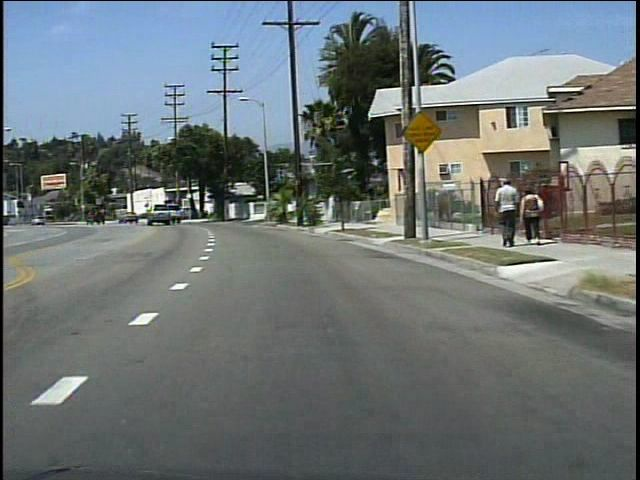person: (490, 175, 517, 249), (515, 184, 542, 243)
